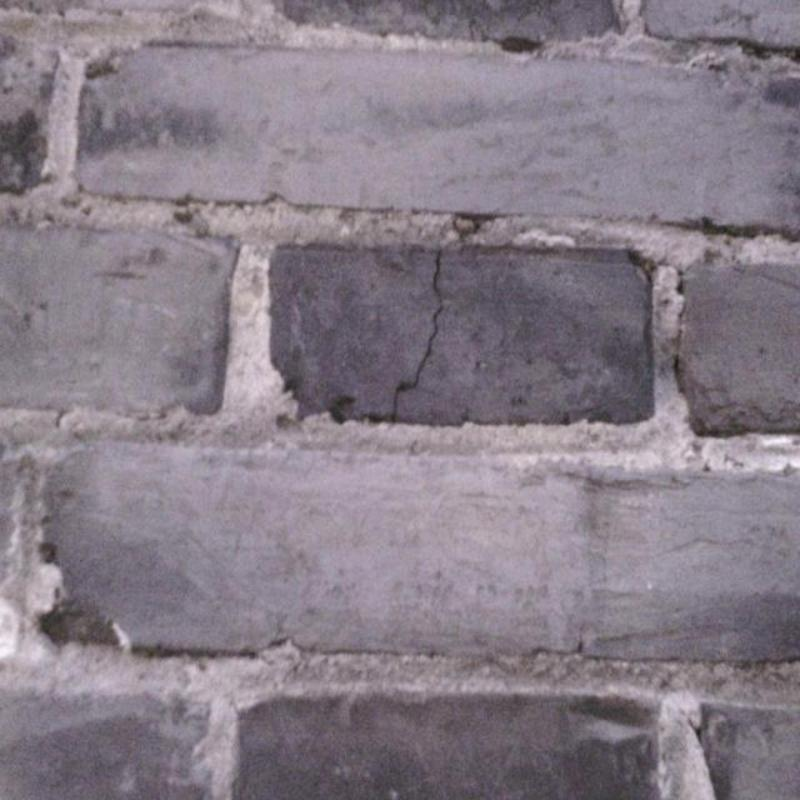crack: (393, 250, 444, 422)
